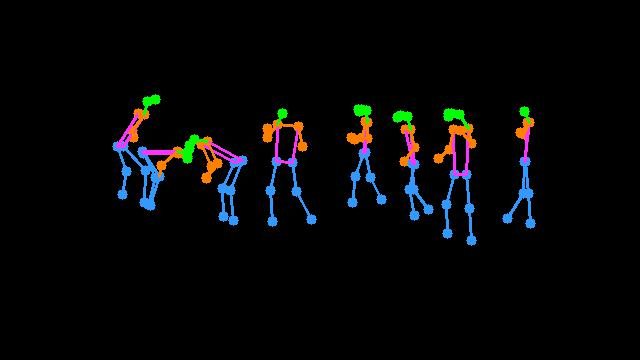normal: (431, 97, 488, 254), (257, 104, 326, 232), (331, 98, 392, 220), (498, 101, 546, 236)
